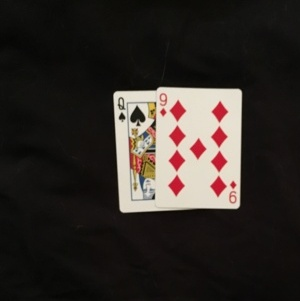card: (154, 84, 243, 211), (112, 88, 157, 213)
